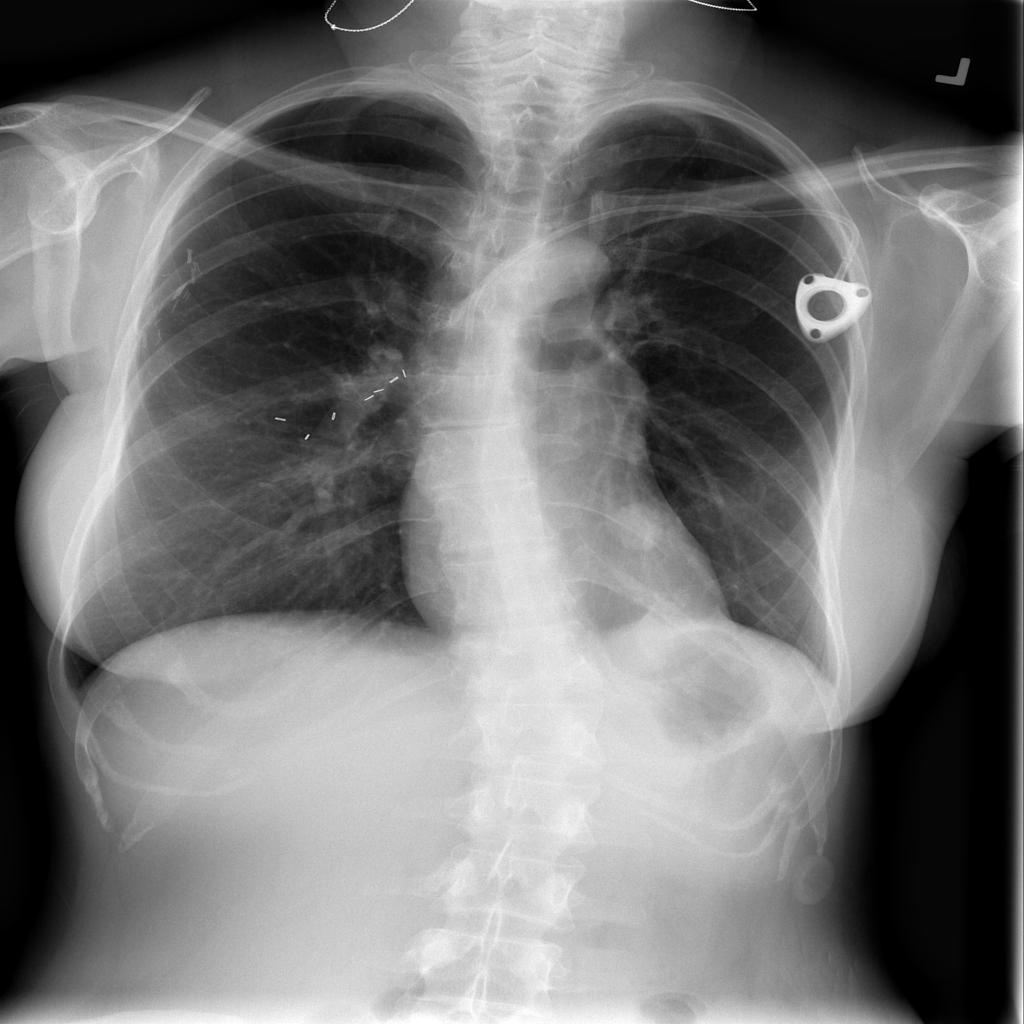nodule: (596, 492, 680, 562)
